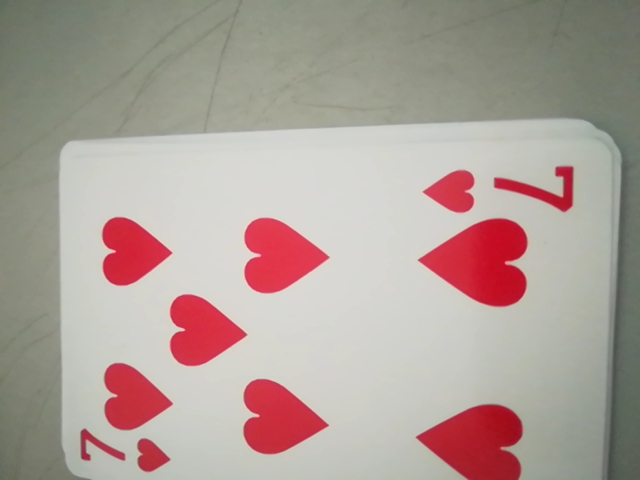hx 7: (414, 153, 585, 221)
